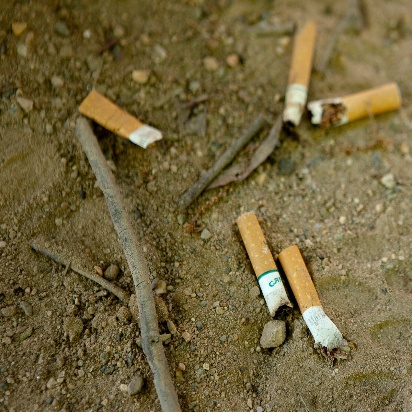cigarette: (284, 239, 356, 363), (234, 207, 294, 321), (76, 88, 166, 157), (313, 81, 408, 127), (281, 15, 314, 140)
